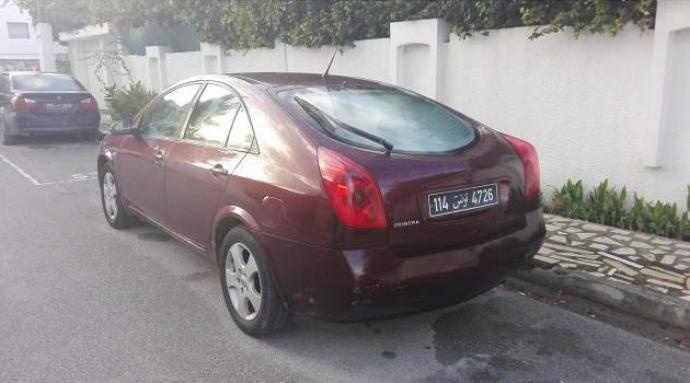LP: (427, 181, 503, 214)
